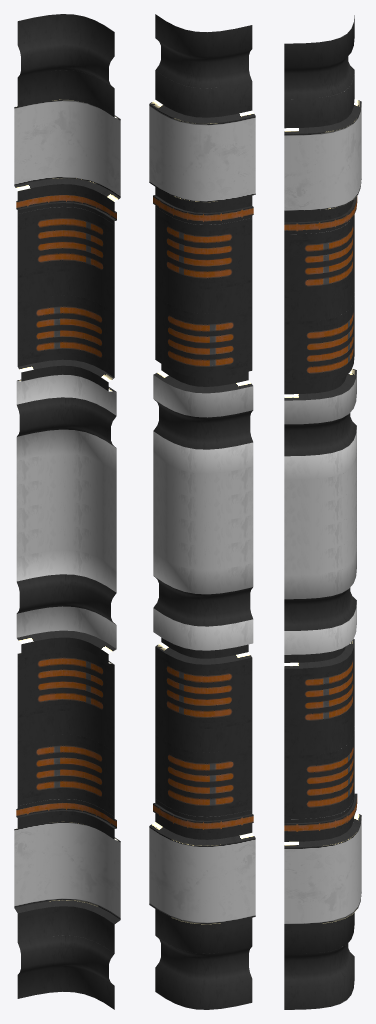
File: SuperLargeCurvedWall.fbx
The picture shows the model from 3 angles, left to right: view 1: azimuth 30°, elevation 25°; view 2: azimuth 210°, elevation 25°; view 3: azimuth 270°, elevation 25°; orthographic projection.
Visible parts, largest first — view 1: Wall1.013; view 2: Wall1.013; view 3: Wall1.013.
Boxes of the visible parts, x1,y1,x2,y2 form: Wall1.013: (14,14,120,1009); Wall1.013: (149,14,255,1009); Wall1.013: (284,15,361,1009).
Size of the model in its own units: 137 by 1900 by 137.
